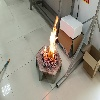fire: (43, 16, 58, 63)
